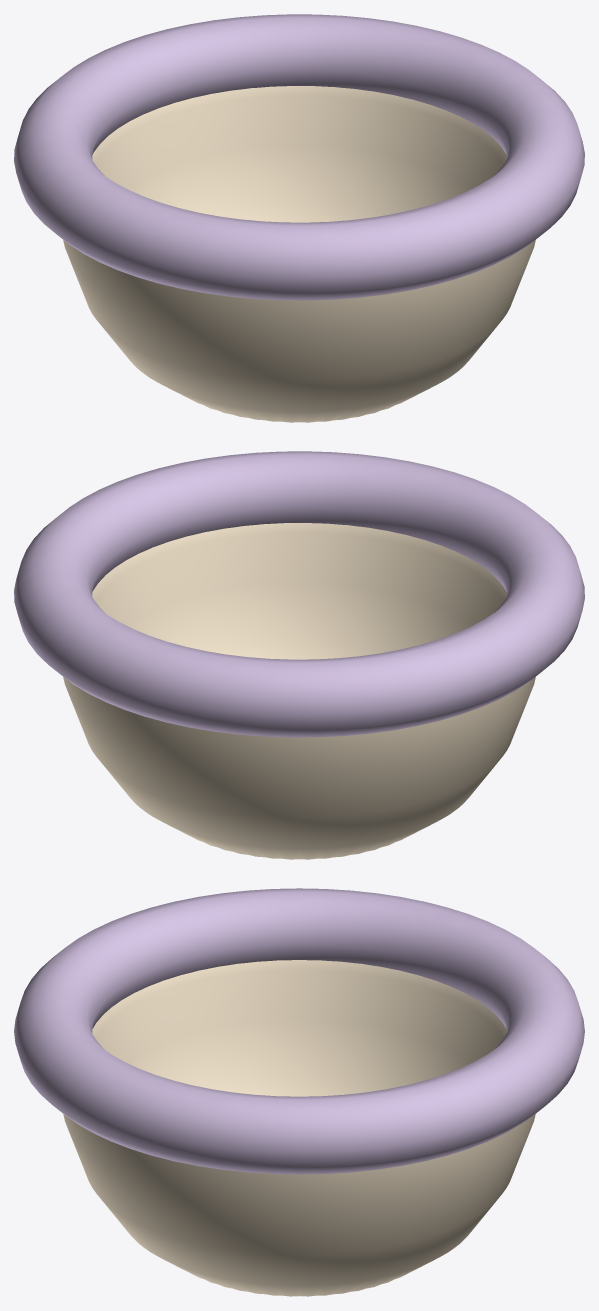
File: fruit_c.glb
3 renders of one model, top to bottom at view 1: azimuth 30°, elevation 25°; view 2: azimuth 150°, elevation 25°; view 3: azimuth 270°, elevation 25°, orthographic.
Visible parts, largest first — view 1: body; view 2: body; view 3: body.
Boxes of the visible parts, bbox=[...] form: body: bbox=[14, 14, 584, 422]; body: bbox=[14, 451, 584, 859]; body: bbox=[14, 888, 584, 1296].
Bounding box in the file's own units: 0.292 × 0.145 × 0.292.
